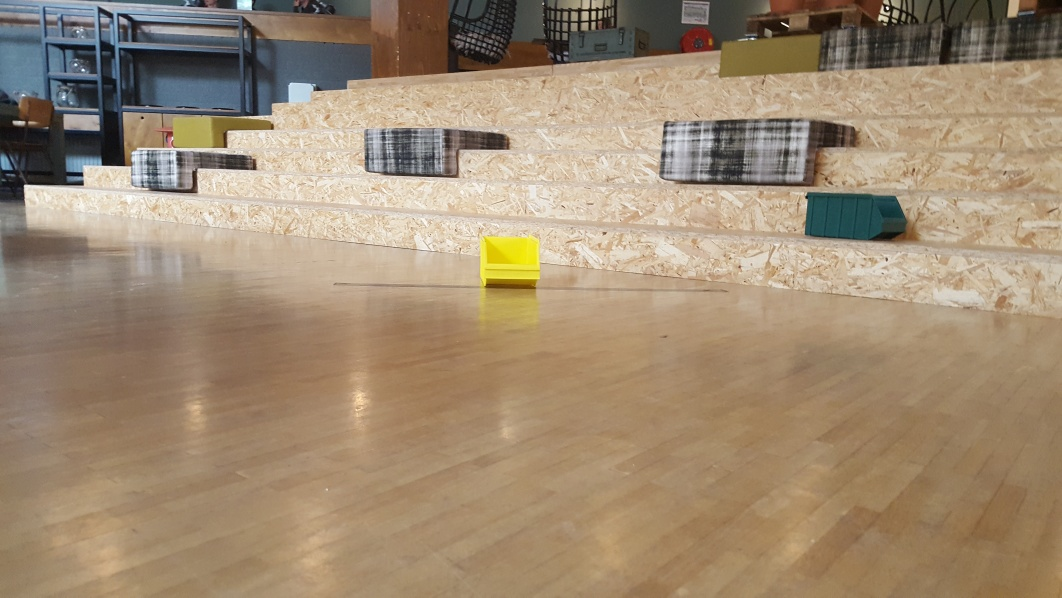tray: (798, 192, 912, 242), (478, 235, 547, 293)
